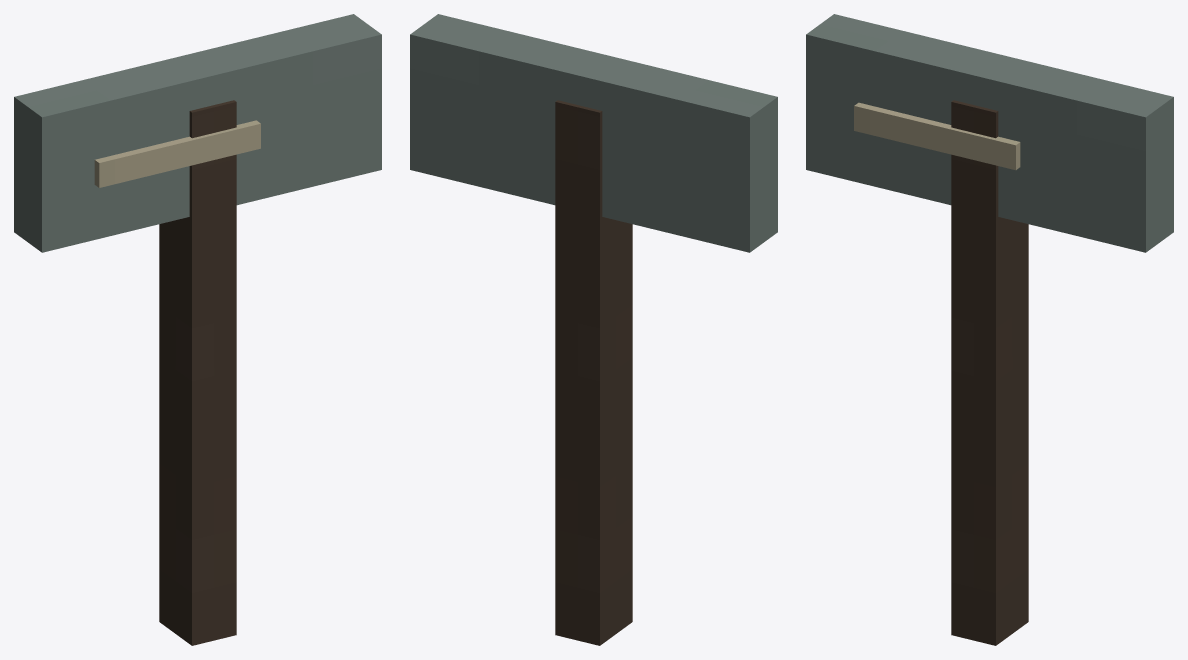
File: sign.glb
3 renders of one model, left to right at view 1: azimuth 30°, elevation 25°; view 2: azimuth 150°, elevation 25°; view 3: azimuth 330°, elevation 25°, orthographic.
Visible parts, largest first — view 1: Housing; view 2: Housing; view 3: Housing.
Part boxes in pixels (x1=…): Housing: x1=14, y1=14, x2=381, y2=645; Housing: x1=410, y1=14, x2=777, y2=645; Housing: x1=806, y1=14, x2=1173, y2=645.
Size of the model in its own units: 0.84 by 1.33 by 0.1495.
Materials: 3 (3 with a texture image).
